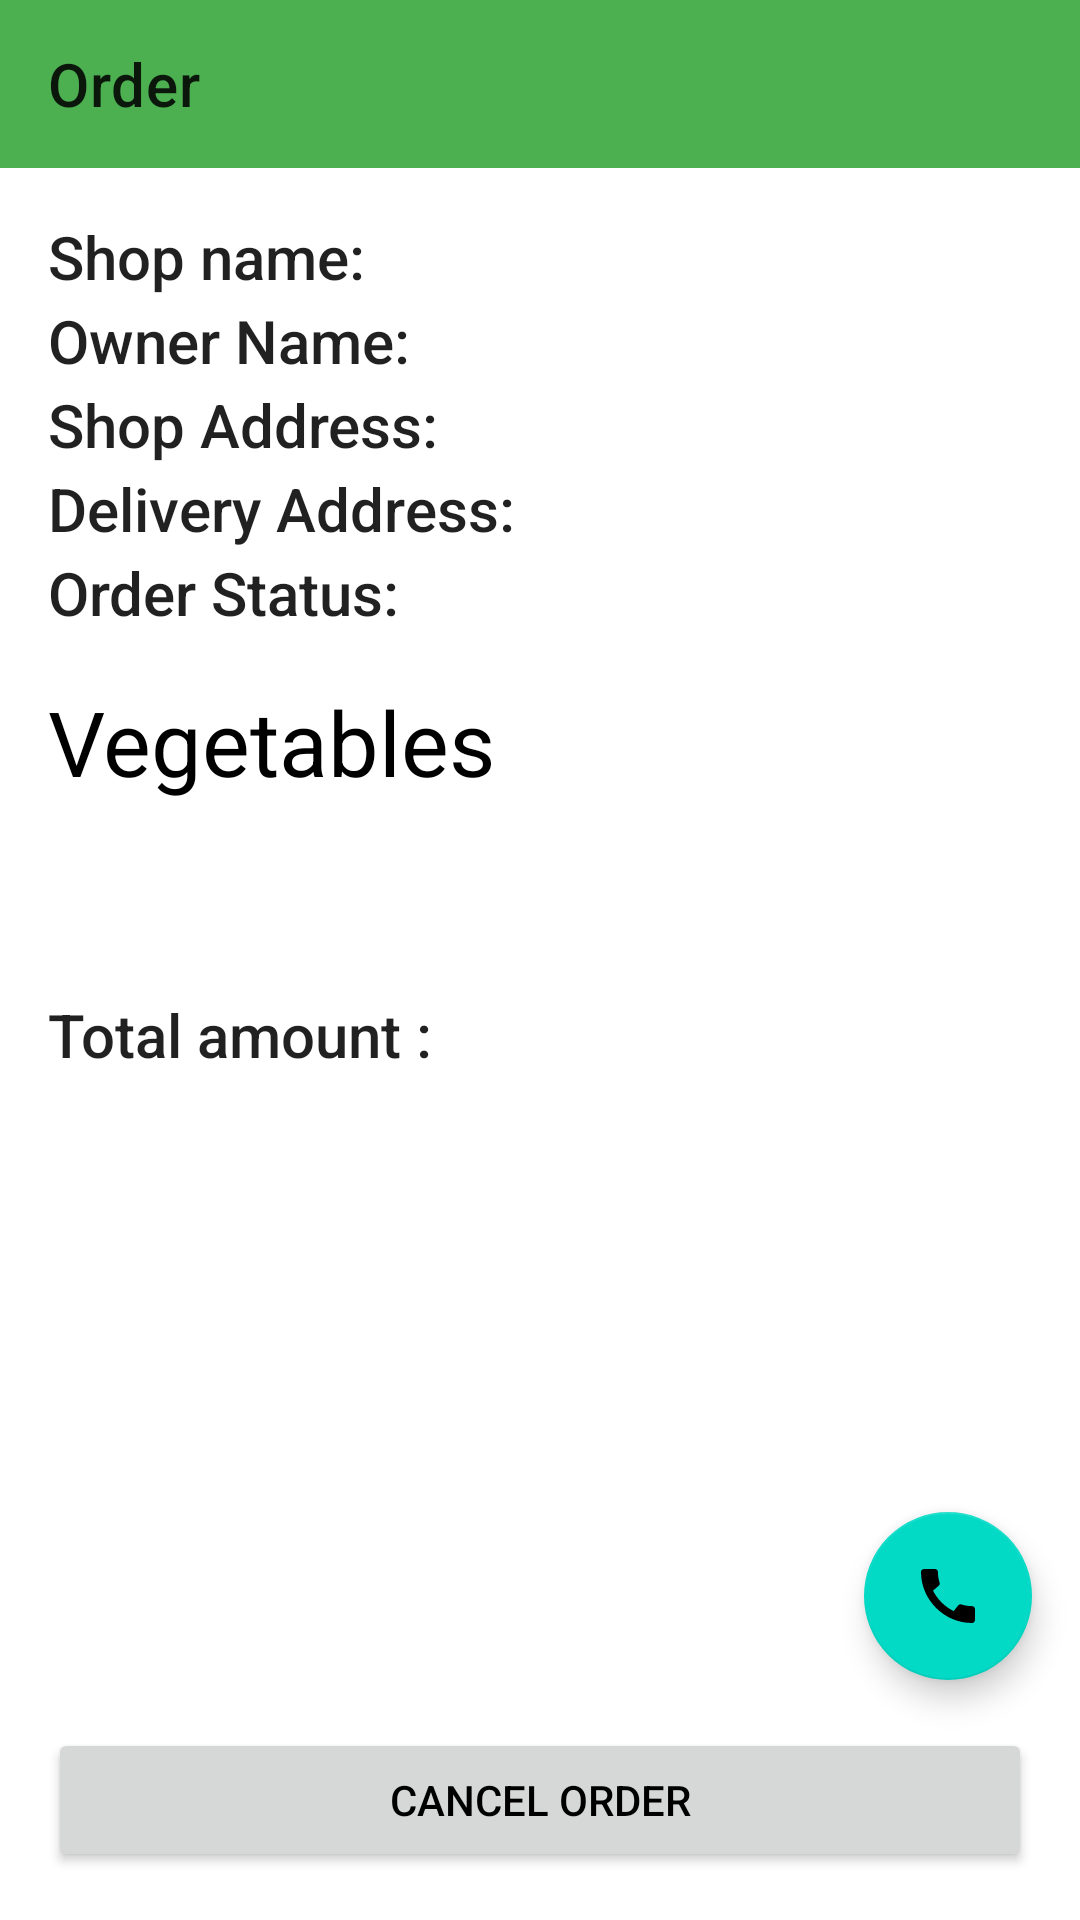

Icons on this 1080px×1920px Android screen, each with its box as [x1,y1,x2,y2]:
call symbol: [864,1512,1032,1680]
